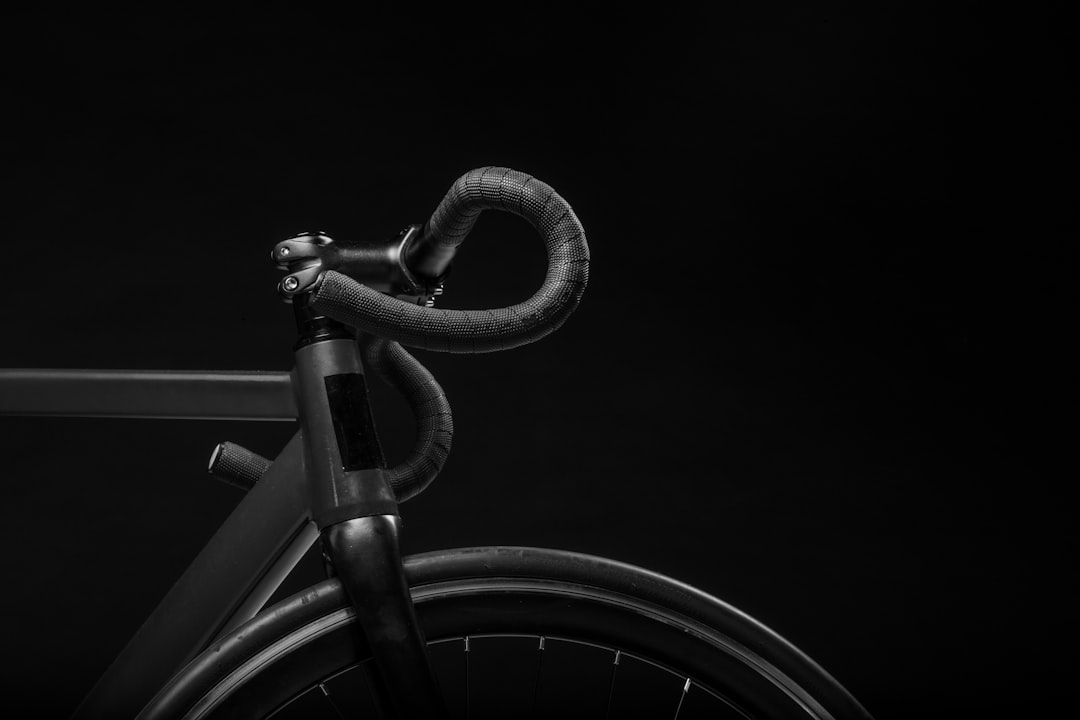bicycle: (0, 163, 876, 720)
